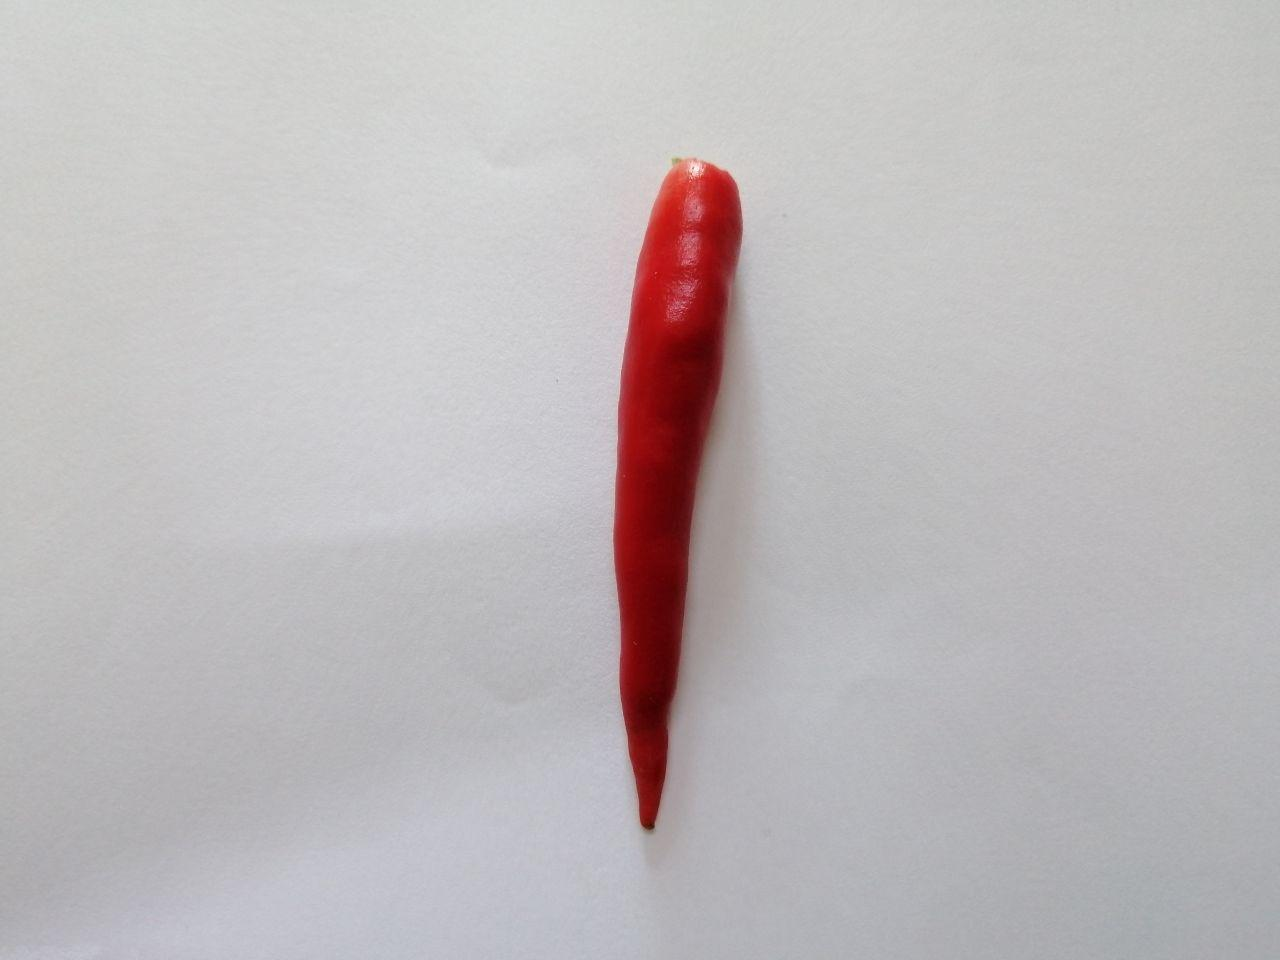lada merah: (593, 142, 755, 856)
